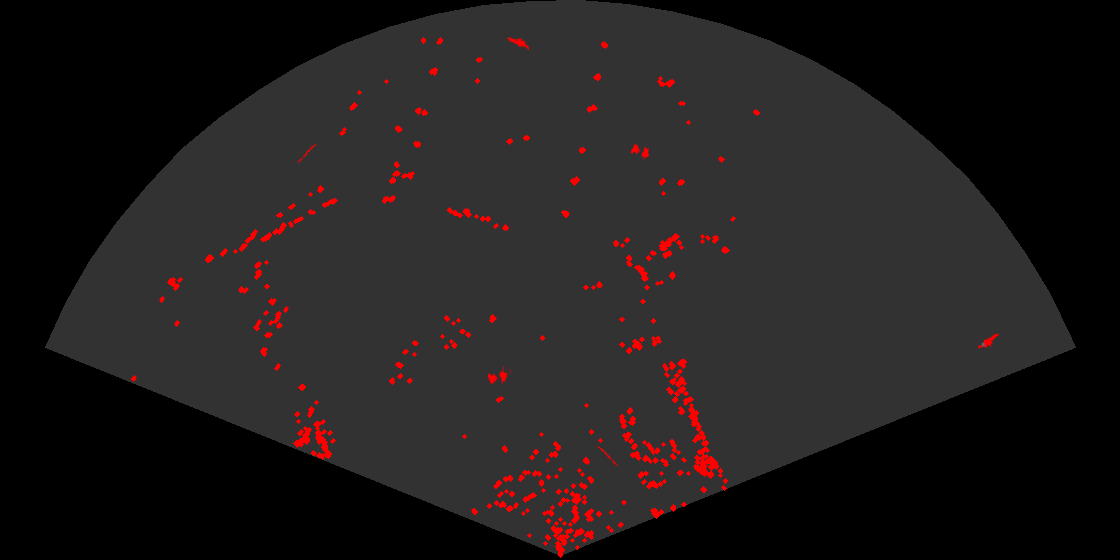cage: (486, 366, 511, 386), (629, 142, 651, 160)
chain: (596, 443, 619, 466), (296, 141, 318, 163)
frogman: (978, 332, 1001, 350), (505, 35, 529, 51)
